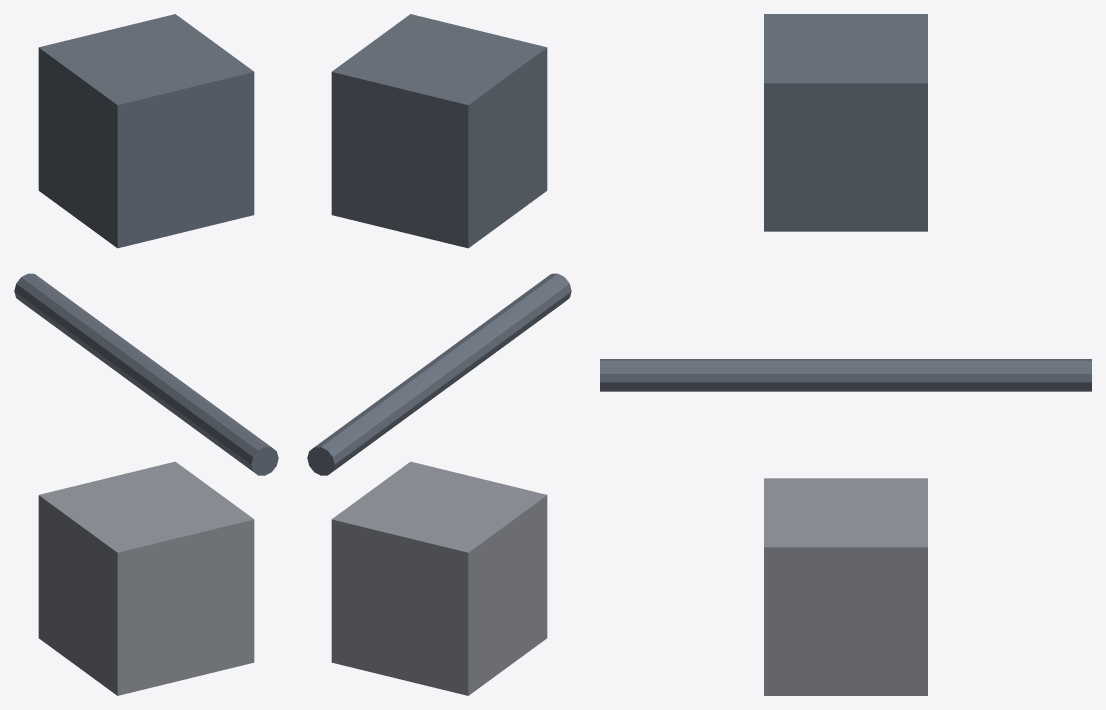
File: inf_traffic_signal.glb
3 views of the same model, side by side, from view 1: azimuth 30°, elevation 25°; view 2: azimuth 150°, elevation 25°; view 3: azimuth 270°, elevation 25° (orthographic). The views are drawn at different scales.
Parts seen in each view (by area): view 1: world; view 2: world; view 3: world.
Boxes of the visible parts, left/top/right/bottom form: world: left=14, top=14, right=278, bottom=695; world: left=307, top=14, right=571, bottom=695; world: left=600, top=14, right=1091, bottom=695.
Bounding box in the file's own units: 1 × 4.13 × 3.
